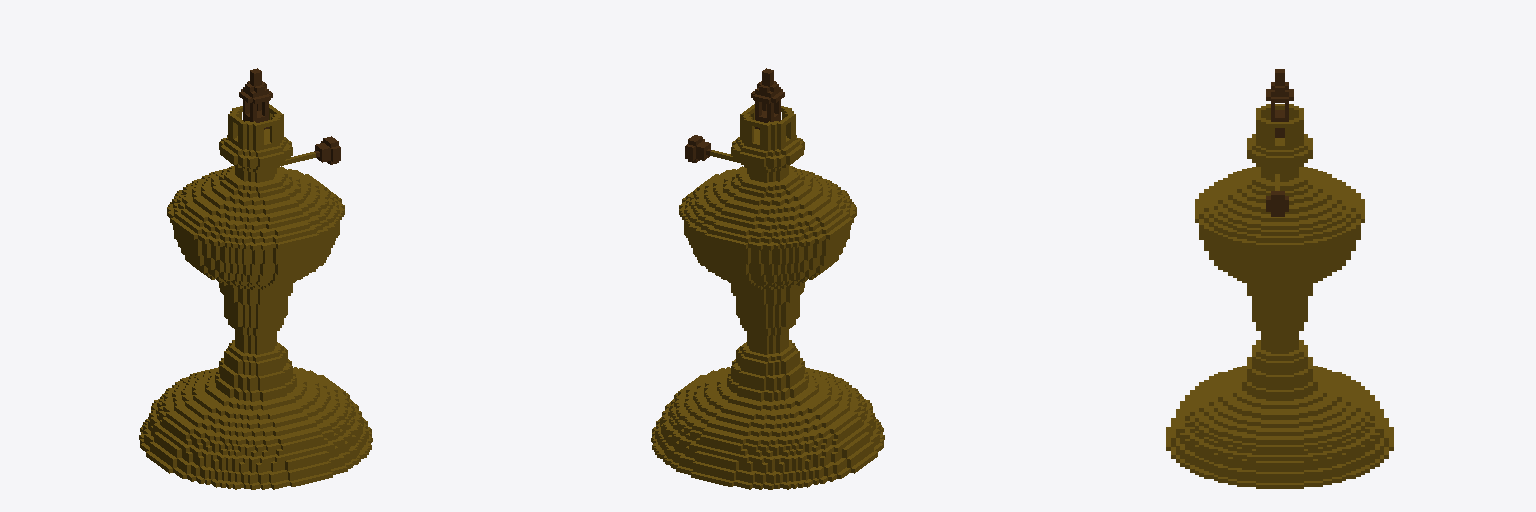
3 renders of one model, left to right at view 1: azimuth 30°, elevation 25°; view 2: azimuth 150°, elevation 25°; view 3: azimuth 270°, elevation 25°, orthographic.
Parts seen in each view (by area): view 1: object 1; view 2: object 1; view 3: object 1.
Boxes of the visible parts, <box> form: object 1: <box>139,68,372,489</box>; object 1: <box>651,68,884,489</box>; object 1: <box>1166,69,1393,488</box>.
Bounding box in the file's own units: 4.8 × 8.6 × 4.8.
1 materials, 1 textured.